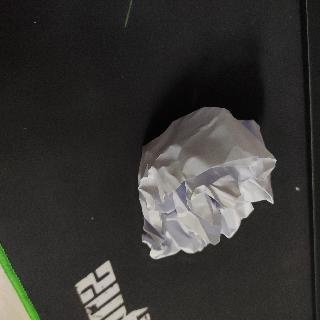8/可回收垃圾/纸: (135, 107, 277, 260)
